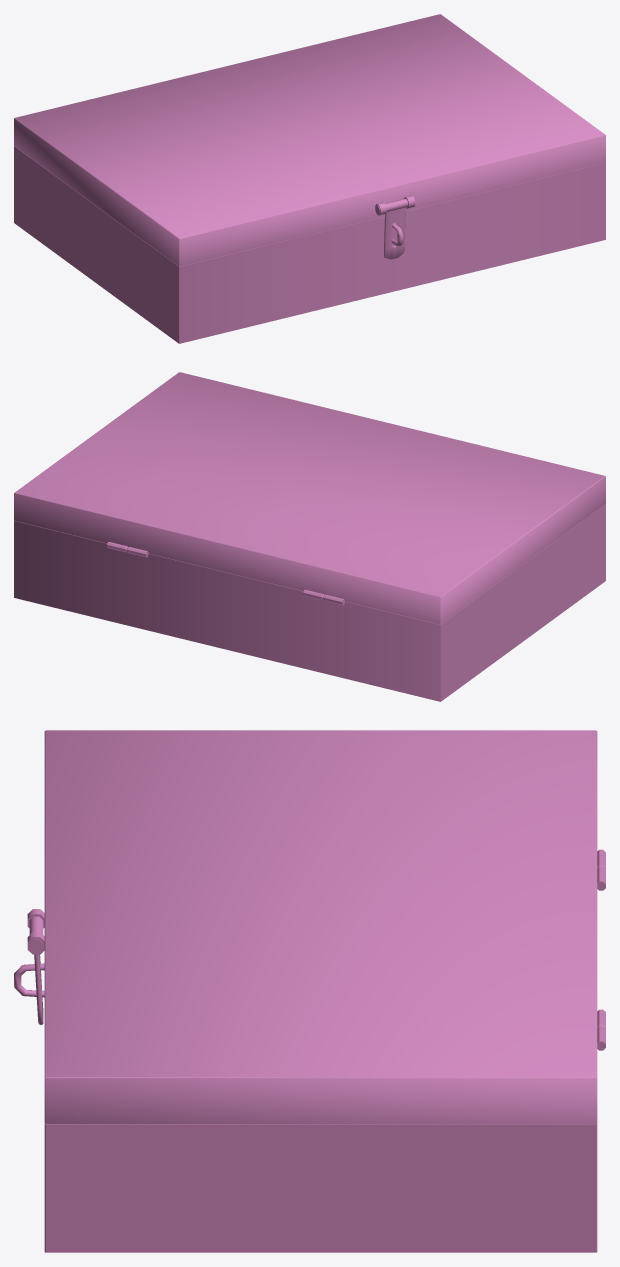
Rendered from chest.fbx.
3 renders of one model, top to bottom at view 1: azimuth 30°, elevation 25°; view 2: azimuth 150°, elevation 25°; view 3: azimuth 270°, elevation 25°, orthographic. The views are drawn at different scales.
Visible parts, largest first — view 1: wooden_chest_small; view 2: wooden_chest_small; view 3: wooden_chest_small.
Part boxes in pixels (x1,y1,x2,y2): wooden_chest_small: [14, 14, 605, 343]; wooden_chest_small: [14, 372, 605, 701]; wooden_chest_small: [14, 730, 605, 1252].
Bounding box in the file's own units: 213 × 50 × 153.
